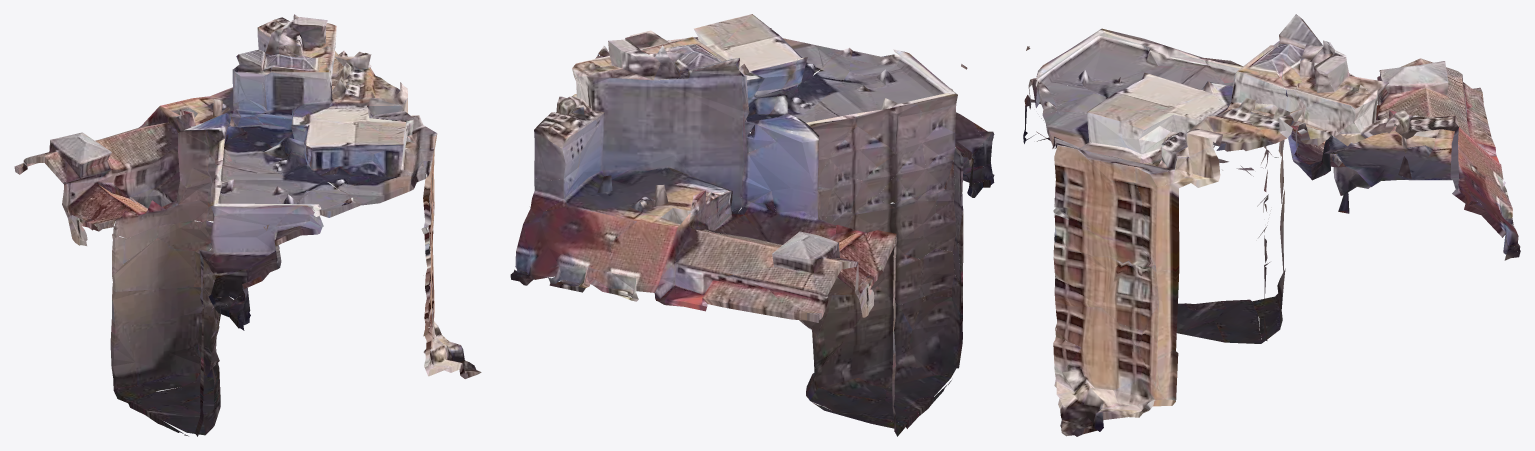
3 views of the same model, side by side, from view 1: azimuth 30°, elevation 25°; view 2: azimuth 150°, elevation 25°; view 3: azimuth 270°, elevation 25° (orthographic). The views are drawn at different scales.
Parts seen in each view (by area): view 1: Mesh_0; view 2: Mesh_0; view 3: Mesh_0.
Boxes of the visible parts, <box> form: Mesh_0: <box>14,14,481,436</box>; Mesh_0: <box>510,14,994,436</box>; Mesh_0: <box>1023,14,1520,436</box>.
Bounding box in the file's own units: 33.32 × 34.32 × 41.36.
2 materials, 2 textured.
